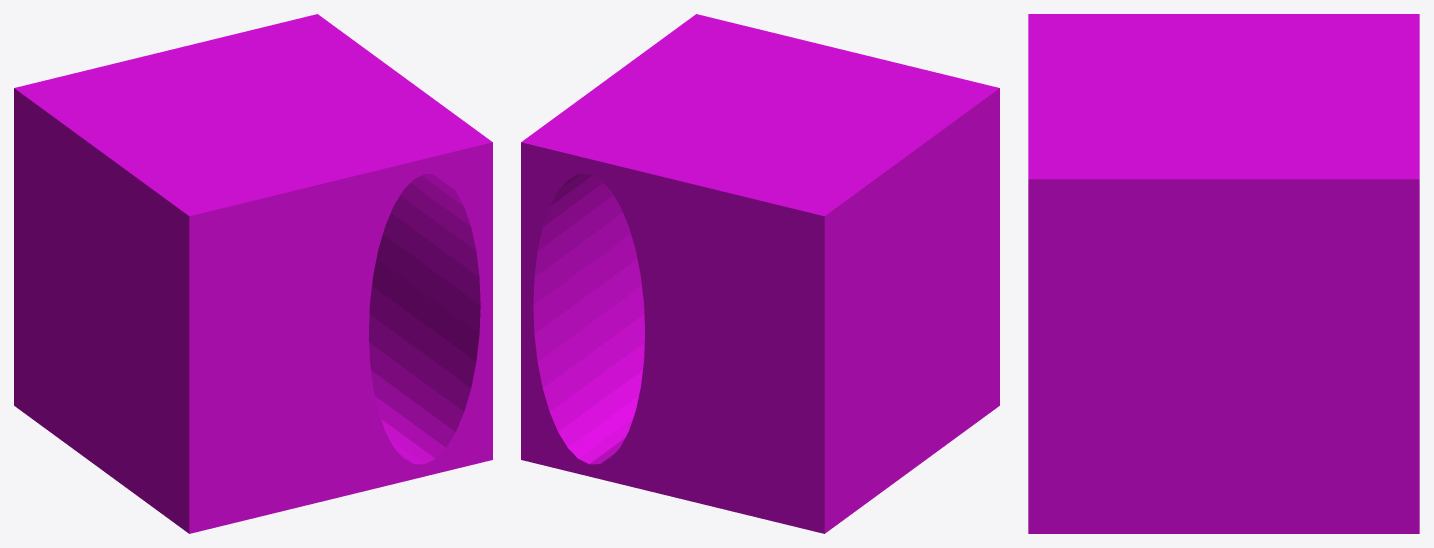
The picture shows the model from 3 angles, left to right: view 1: azimuth 30°, elevation 25°; view 2: azimuth 150°, elevation 25°; view 3: azimuth 270°, elevation 25°; orthographic projection. The views are drawn at different scales.
Visible parts, largest first — view 1: first_rack; view 2: first_rack; view 3: first_rack.
Boxes of the visible parts, x1=… form: first_rack: x1=14, y1=14, x2=492, y2=533; first_rack: x1=521, y1=14, x2=999, y2=533; first_rack: x1=1028, y1=14, x2=1419, y2=533.
Size of the model in its own units: 2 by 2 by 2.
